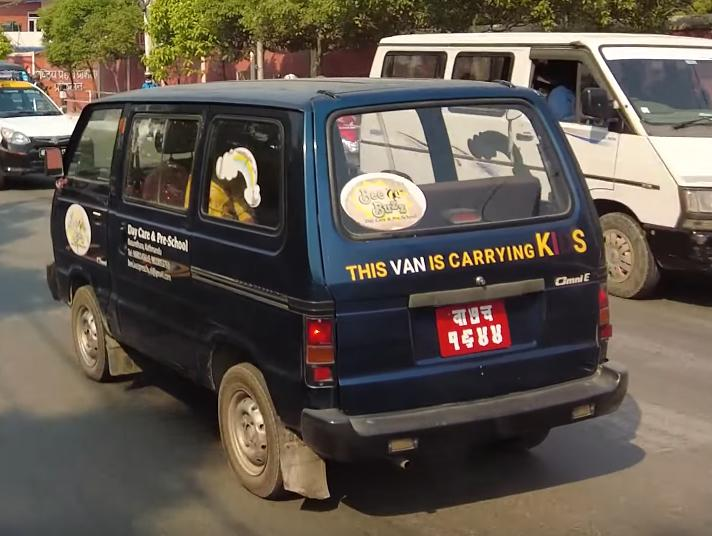taxi: (0, 71, 79, 191)
van: (46, 68, 630, 504)
